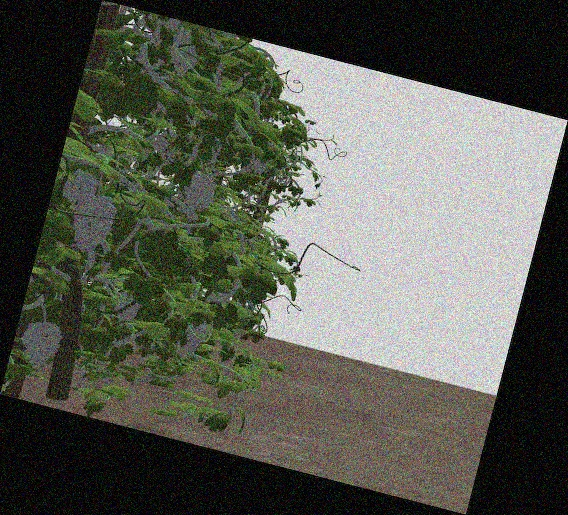grape: (73, 193, 112, 252), (19, 320, 60, 369), (168, 32, 199, 75), (184, 173, 216, 212), (64, 170, 97, 203), (178, 318, 201, 360), (115, 297, 139, 321)
